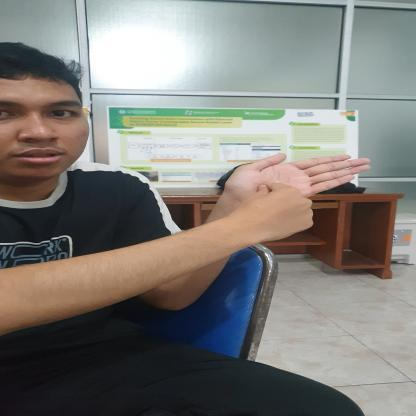Nama: (163, 147, 403, 260)
